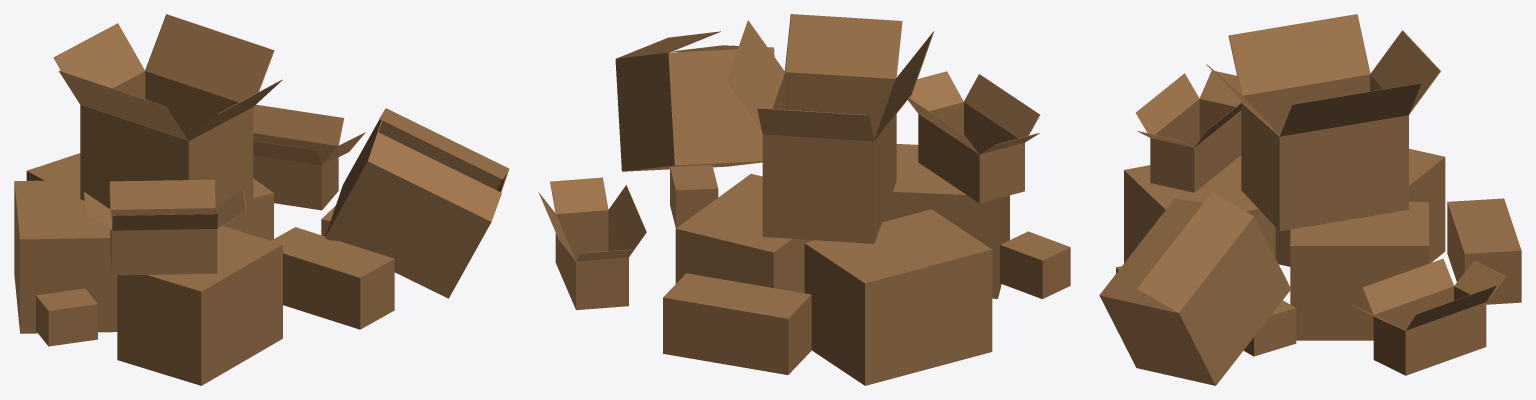
Rendered from pile_of_cardboard_boxes_v2.fbx.
The picture shows the model from 3 angles, left to right: view 1: azimuth 30°, elevation 25°; view 2: azimuth 150°, elevation 25°; view 3: azimuth 270°, elevation 25°; orthographic projection. The views are drawn at different scales.
Visible parts, largest first — view 1: Box 2.001; view 2: Box 2.001; view 3: Box 2.001.
Boxes of the visible parts, <box> form: Box 2.001: <box>14,14,509,385</box>; Box 2.001: <box>538,14,1070,385</box>; Box 2.001: <box>1099,14,1521,385</box>.
Size of the model in its own units: 977 by 502 by 809.
